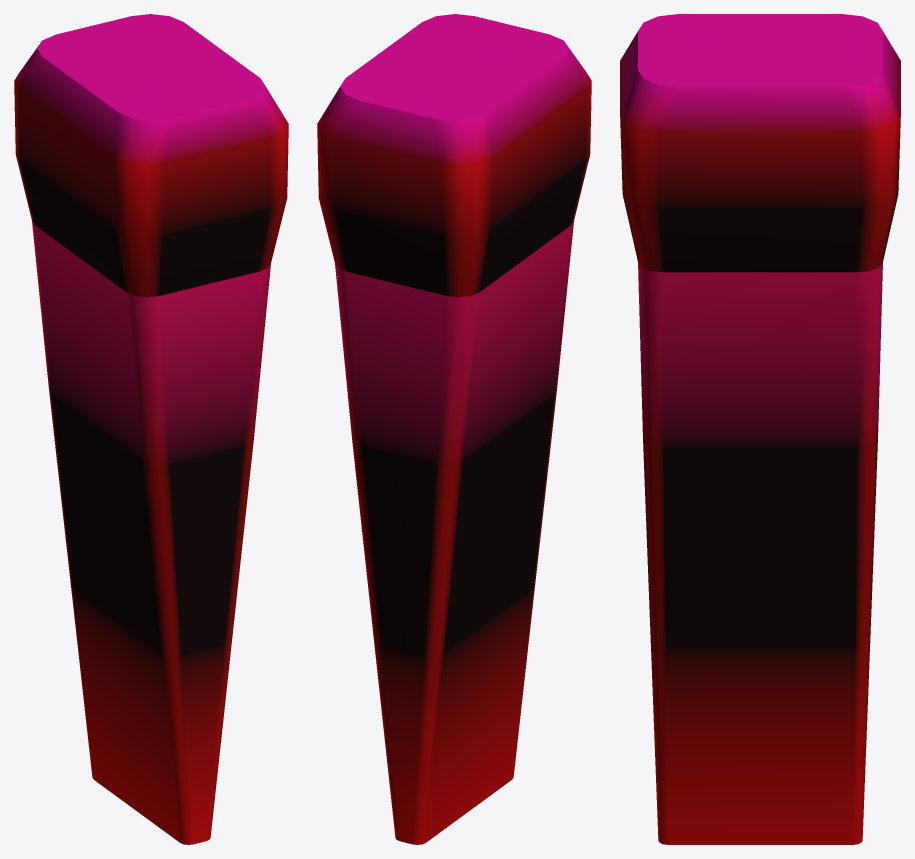
The model's file is prop_wedge.fbx.
3 views of the same model, side by side, from view 1: azimuth 30°, elevation 25°; view 2: azimuth 150°, elevation 25°; view 3: azimuth 270°, elevation 25° (orthographic). The views are drawn at different scales.
Parts seen in each view (by area): view 1: prop_wedge; view 2: prop_wedge; view 3: prop_wedge.
Boxes of the visible parts, left/top/right/bottom form: prop_wedge: left=14, top=14, right=288, bottom=844; prop_wedge: left=317, top=14, right=591, bottom=844; prop_wedge: left=620, top=14, right=900, bottom=844.
Bounding box in the file's own units: 0.041 × 0.17 × 0.055.
